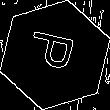P_E: (26, 31, 84, 79)
